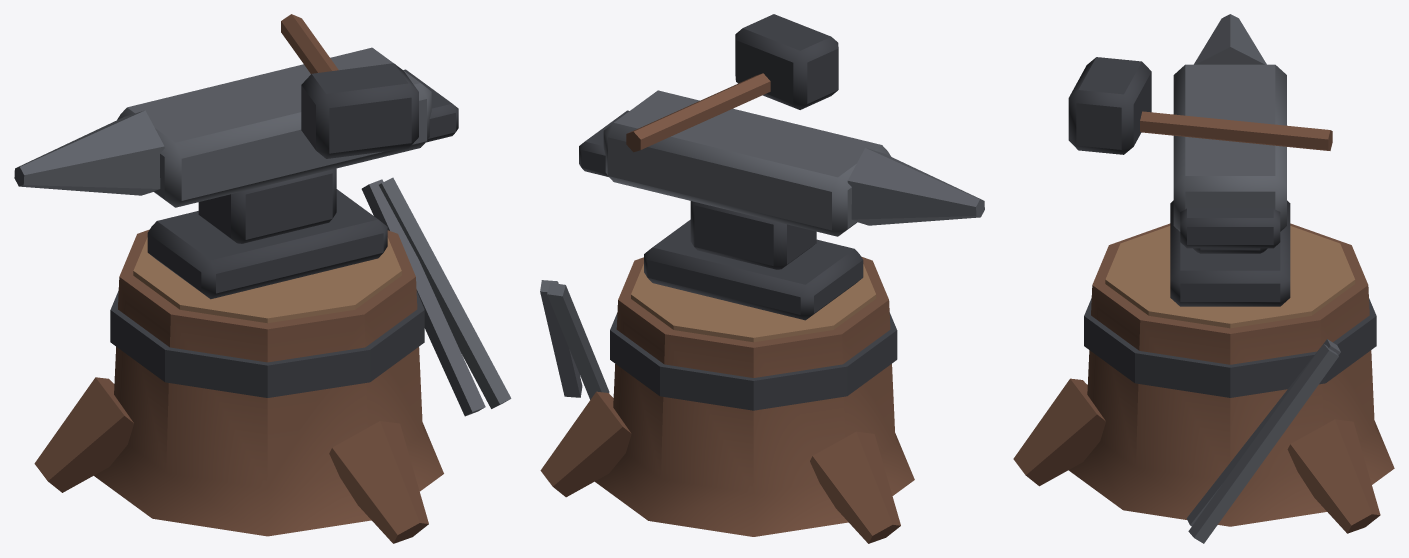
The model's file is ash_anvil.fbx.
3 renders of one model, left to right at view 1: azimuth 30°, elevation 25°; view 2: azimuth 150°, elevation 25°; view 3: azimuth 270°, elevation 25°, orthographic. The views are drawn at different scales.
Parts seen in each view (by area): view 1: ash_anvil; view 2: ash_anvil; view 3: ash_anvil.
Part boxes in pixels (x1,y1,x2,y2): ash_anvil: (14,14,511,543); ash_anvil: (540,14,984,543); ash_anvil: (1013,14,1394,543).
Bounding box in the file's own units: 1.52 × 1.34 × 1.14.
